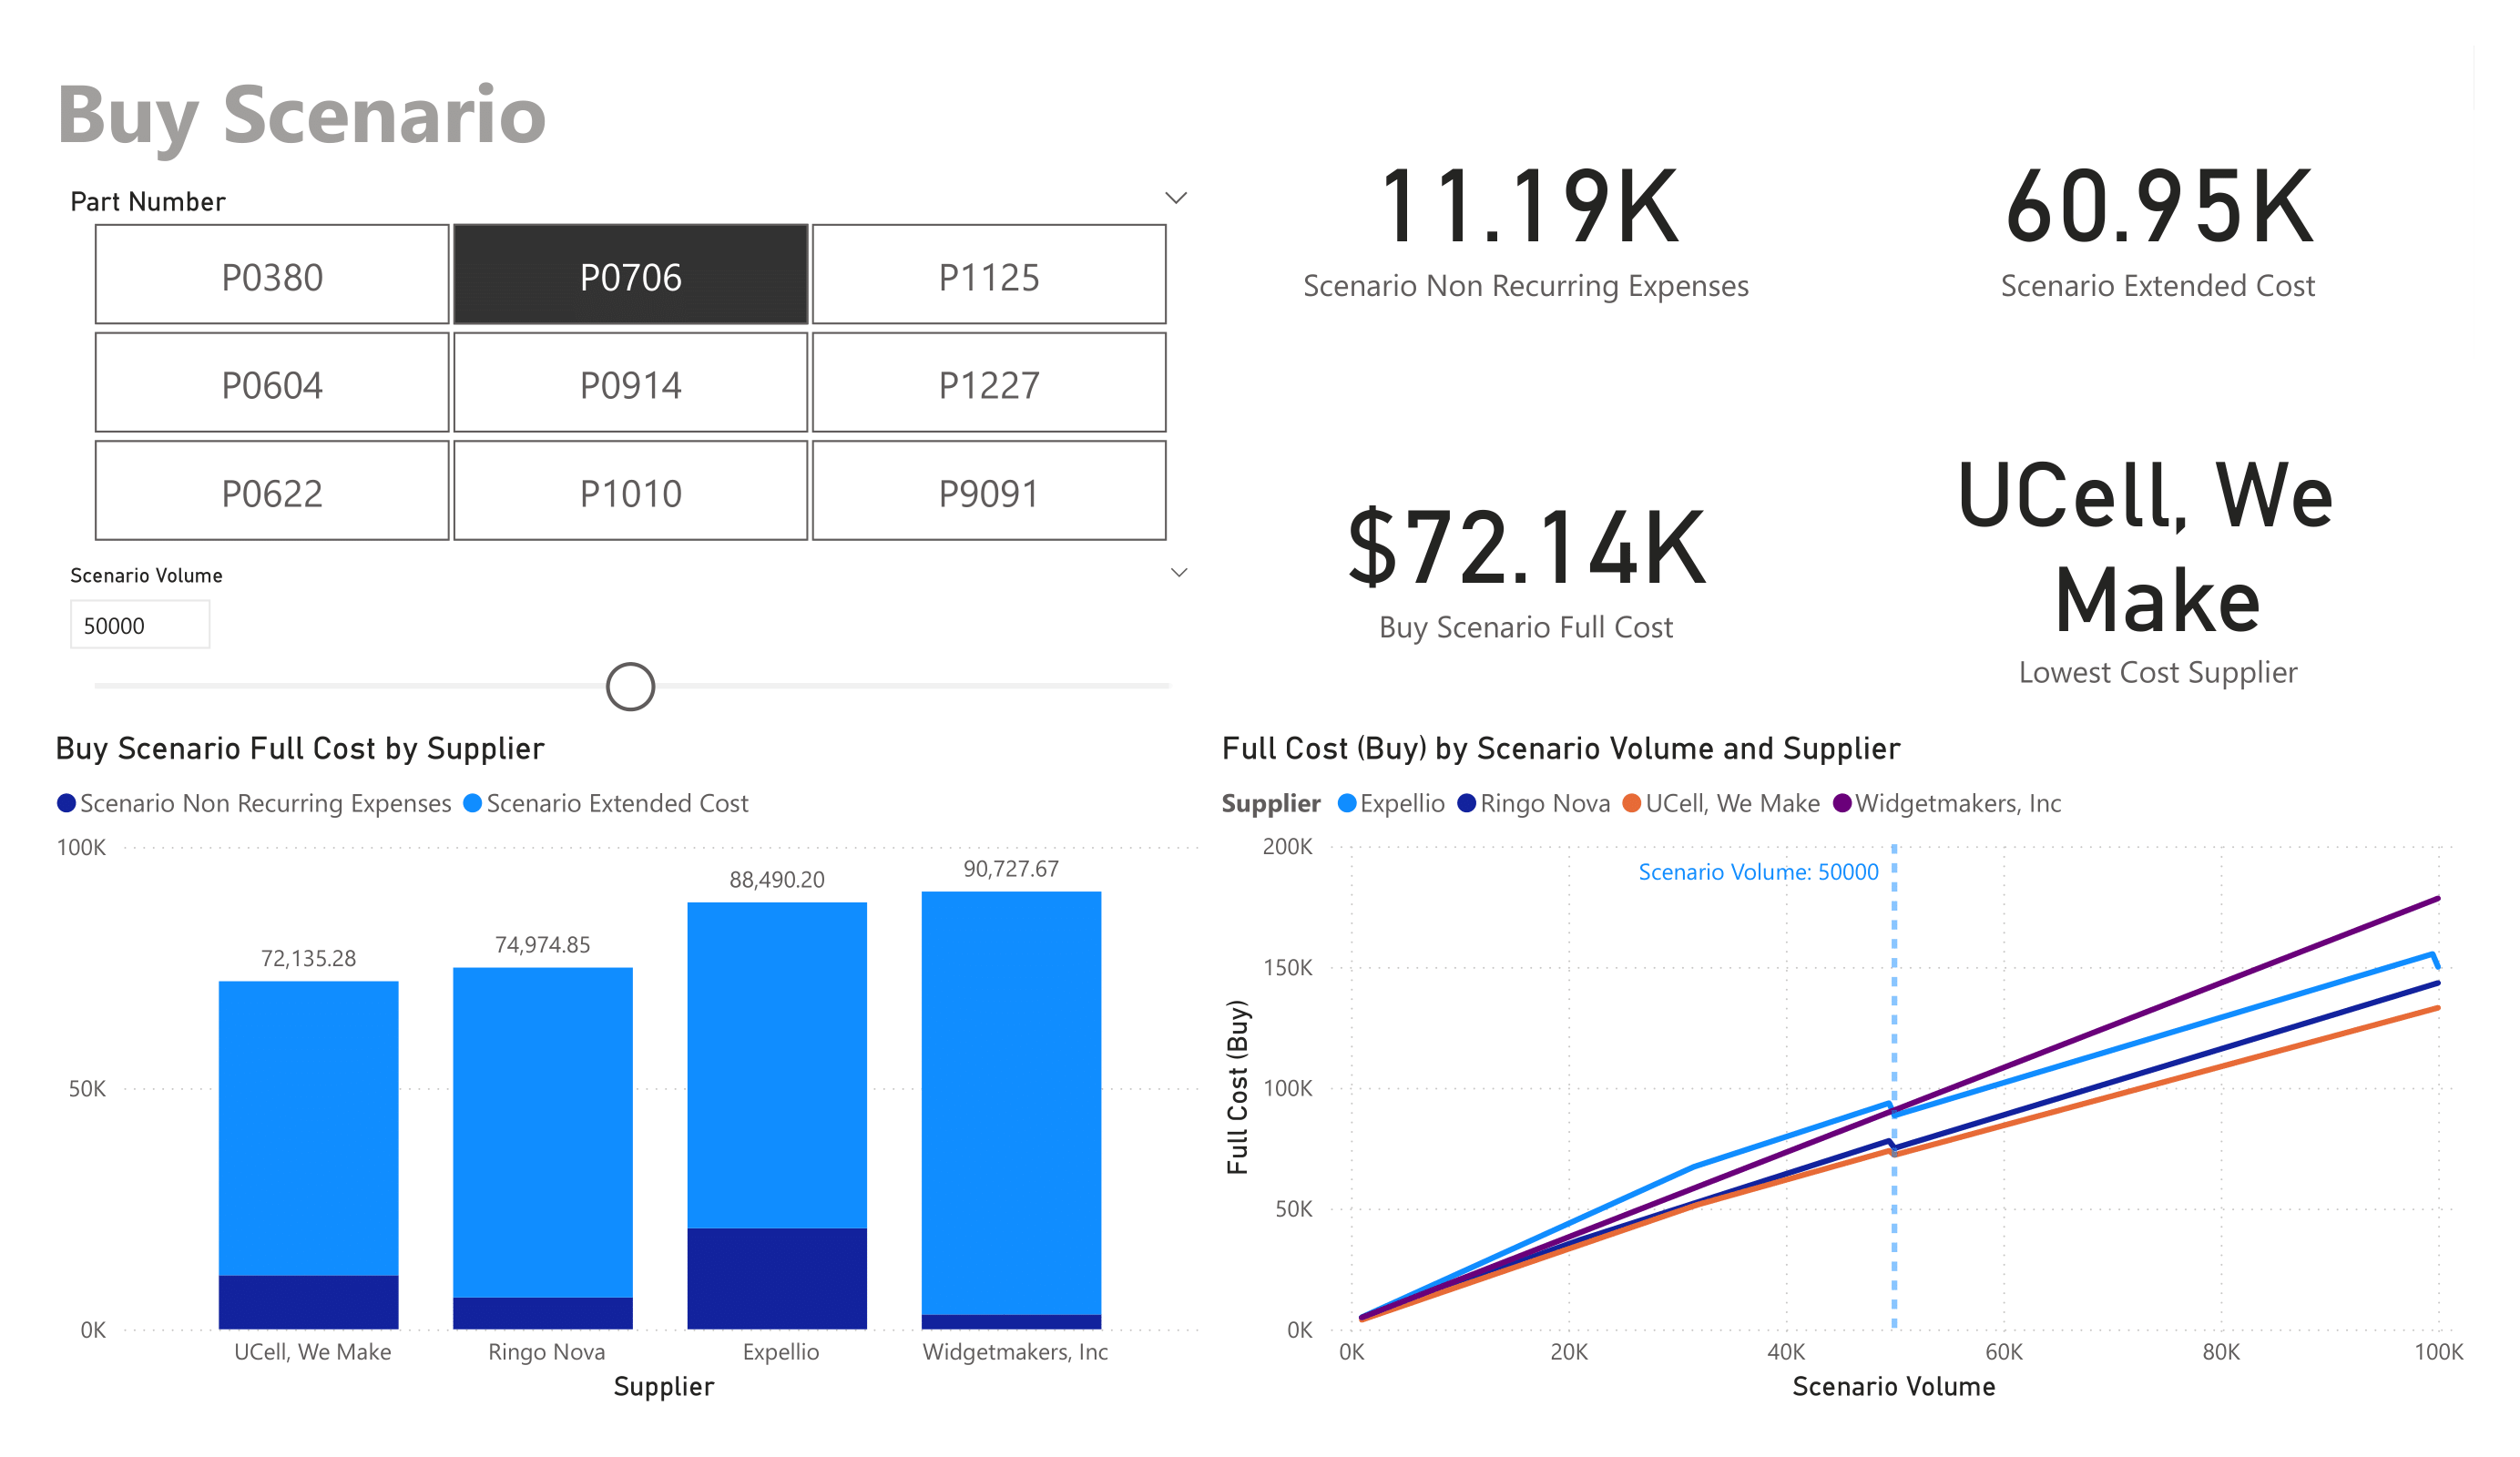

This screenshot's page, from the dashboard's own definition file:
{"tool":"powerbi","page":{"name":"Buy Scenario","canvas":[1280,720],"ordinal":1},"visuals":[{"type":"textbox","box":[0,0,359.7,68.1],"z":0},{"type":"columnChart","title":"Buy Scenario Full Cost by Supplier","fields":{"Category":["Quotes.Supplier"],"Y":["Quotes.Sc_N_Rec_Cost","Quotes.Sc_Ex_Cost"]},"box":[0,359.7,615,360.5],"z":1000},{"type":"slicer","fields":{"Values":["Product_Dimension.Part_Number"]},"box":[0,68.7,615.3,199.1],"z":2000},{"type":"slicer","fields":{"Values":["Scenario Volume.Scenario Volume"]},"box":[0,267.8,615.3,92],"z":3000},{"type":"lineChart","fields":{"Y":["Scenario Volumes (All).Full_Cost_All"],"Category":["Scenario Volumes (All).Scenario Volume"],"Series":["Quotes.Supplier"]},"box":[614.9,359.8,665.1,360.2],"z":4000},{"type":"card","fields":{"Values":["Quotes.Lowest Cost Supplier"]},"box":[947.1,175.1,332.9,185.4],"z":5000},{"type":"card","fields":{"Values":["Quotes.Scenario_Full_Cost"]},"box":[614.1,175.1,332.9,184.6],"z":6000},{"type":"card","fields":{"Values":["Quotes.Scenario Non Recurring Expenses"]},"box":[614.1,0,332.9,175.1],"z":7000},{"type":"card","fields":{"Values":["Quotes.Scenario Extended Cost"]},"box":[947.1,0,332.9,175.1],"z":8000}]}

Visuals, with their boxes in screenshot pixels (x1, y1, x2, y2):
textbox: [x1=46, y1=46, x2=728, y2=175]
"Buy Scenario Full Cost by Supplier" columnChart: [x1=46, y1=728, x2=1212, y2=1411]
slicer - Product_Dimension.Part_Number: [x1=46, y1=176, x2=1213, y2=554]
slicer - Scenario Volume.Scenario Volume: [x1=46, y1=554, x2=1213, y2=728]
lineChart - Scenario Volumes (All).Full_Cost_All x Scenario Volumes (All).Scenario Volume: [x1=1212, y1=728, x2=2474, y2=1411]
card - Quotes.Lowest Cost Supplier: [x1=1842, y1=378, x2=2474, y2=729]
card - Quotes.Scenario_Full_Cost: [x1=1211, y1=378, x2=1842, y2=728]
card - Quotes.Scenario Non Recurring Expenses: [x1=1211, y1=46, x2=1842, y2=378]
card - Quotes.Scenario Extended Cost: [x1=1842, y1=46, x2=2474, y2=378]
